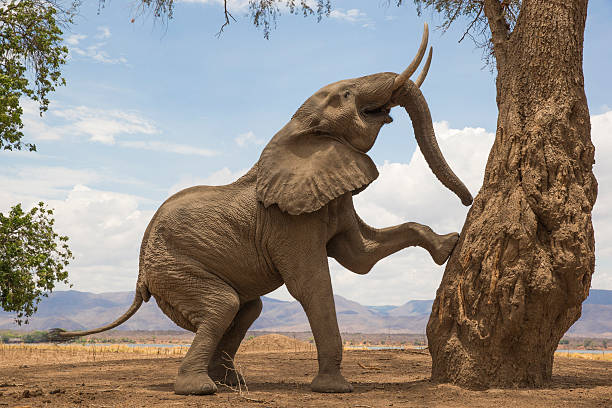africanelephant: (284, 21, 453, 144)
